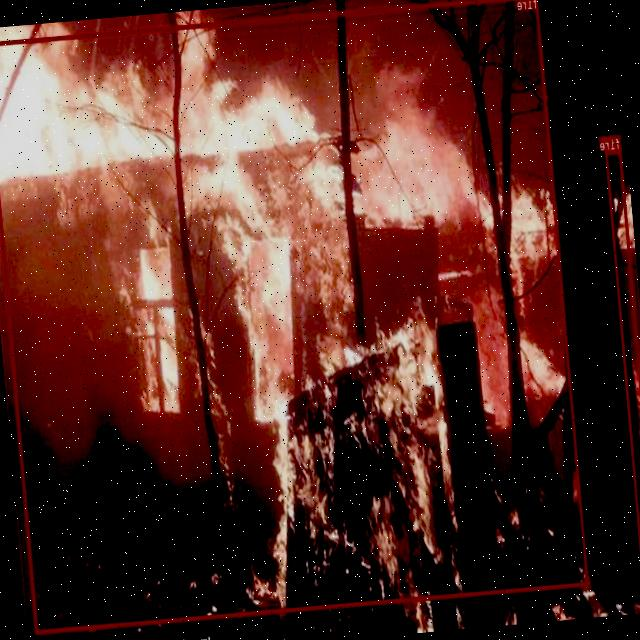fire: (0, 0, 589, 633), (605, 148, 640, 603)
